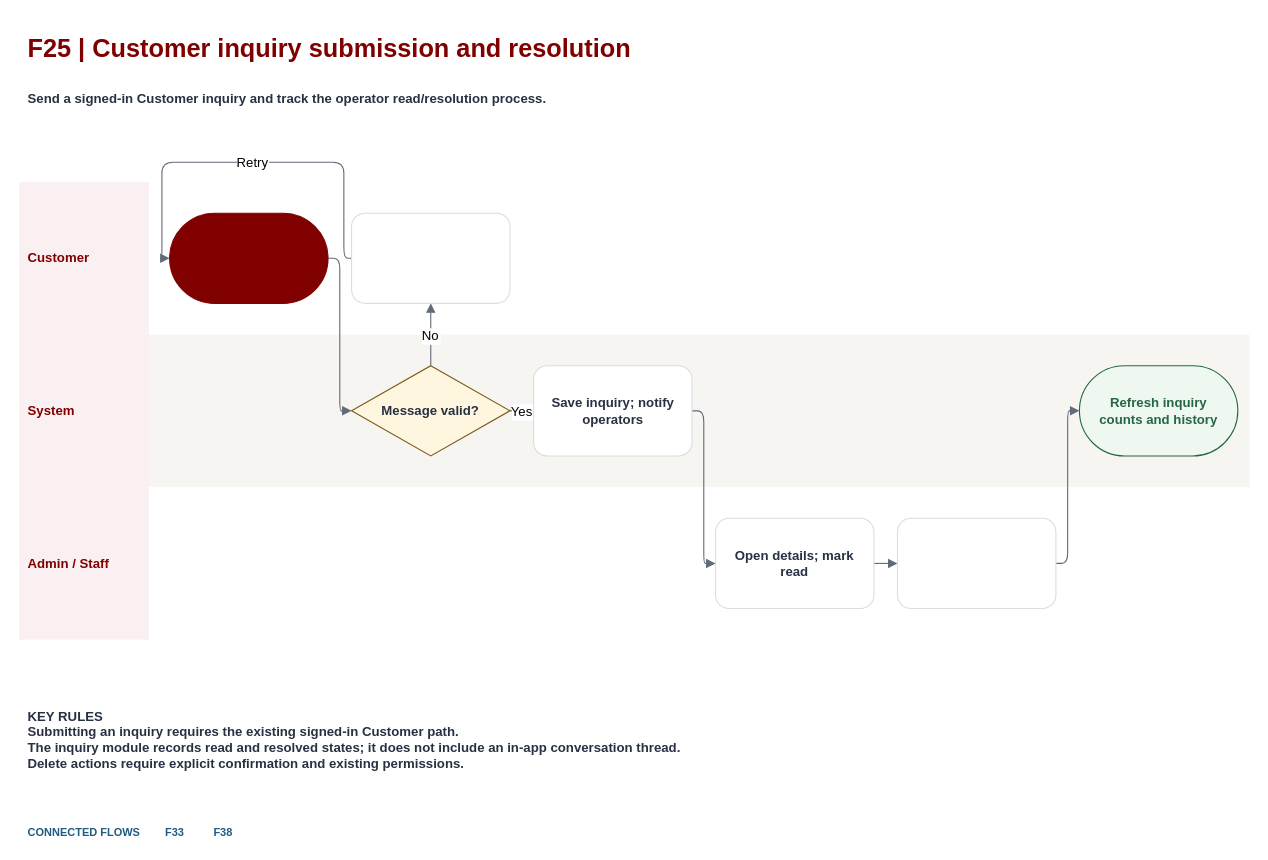
Image size: 1268x860. Some labels were removed from this diagram. The shapes that lost their labels are listed below. From the top down, each one's box as (x1, y1, x2, y2) in pixels, then its label:
(169, 212, 328, 303): Enter name, email and message
(350, 212, 510, 303): Correct message and resubmit
(896, 517, 1056, 609): Mark inquiry resolved
